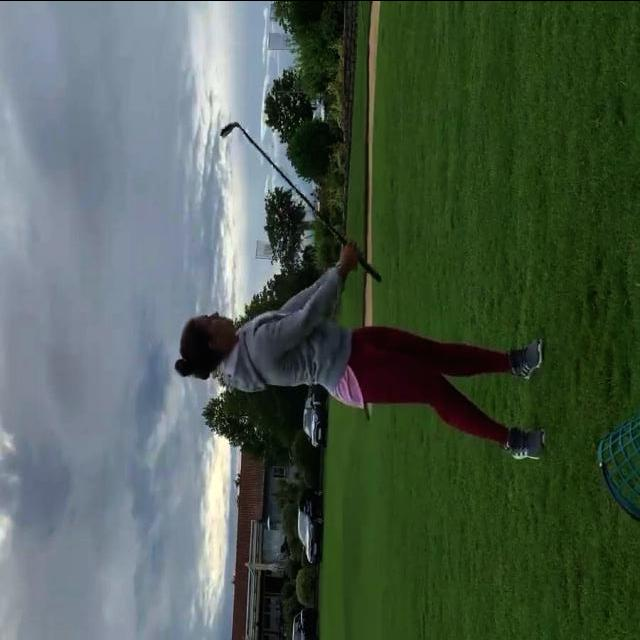golf club-handle: (220, 121, 384, 282)
golf club-head: (220, 121, 236, 134)
